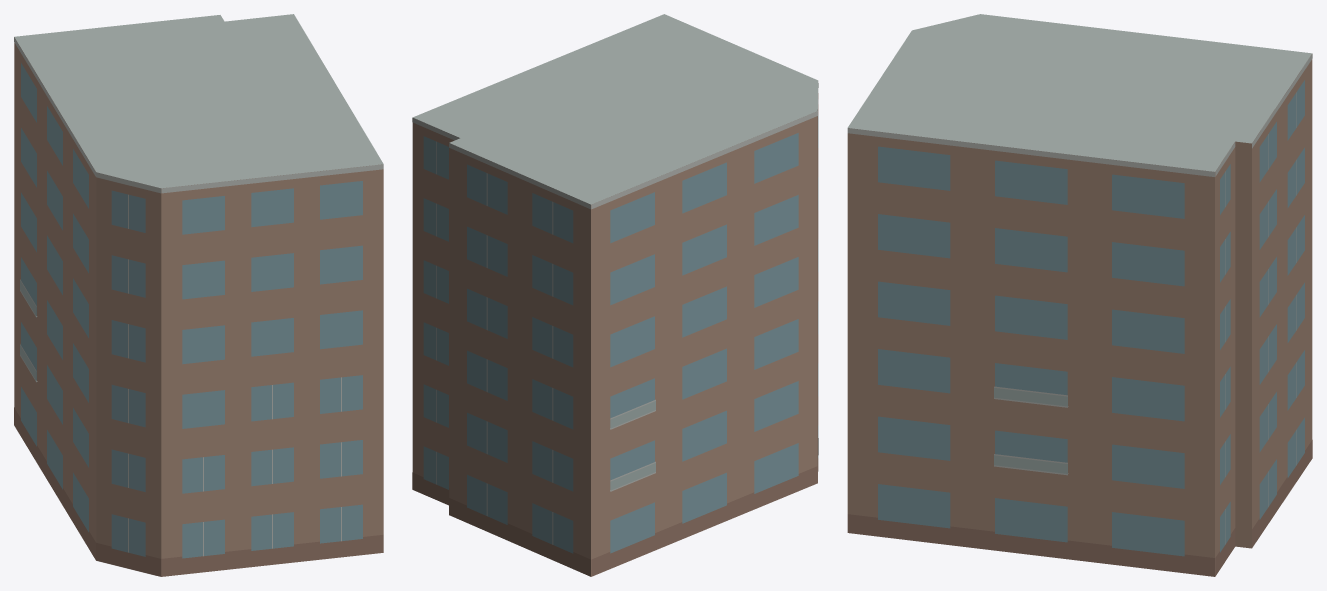
The model's file is survey-upis-32940933.glb.
3 renders of one model, left to right at view 1: azimuth 30°, elevation 25°; view 2: azimuth 150°, elevation 25°; view 3: azimuth 270°, elevation 25°, orthographic. The views are drawn at different scales.
Parts seen in each view (by area): view 1: survey-upis-32940933.tmp; view 2: survey-upis-32940933.tmp; view 3: survey-upis-32940933.tmp.
Boxes of the visible parts, x1,y1,x2,y2 form: survey-upis-32940933.tmp: (14,14,383,576); survey-upis-32940933.tmp: (412,14,818,576); survey-upis-32940933.tmp: (847,14,1312,576).
Size of the model in its own units: 15.56 by 18.6 by 19.36.
